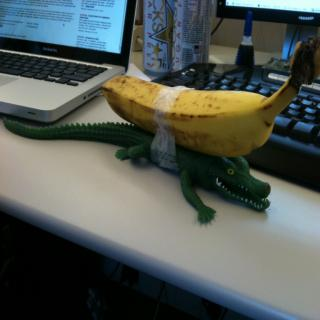Banana: (100, 35, 320, 157)
